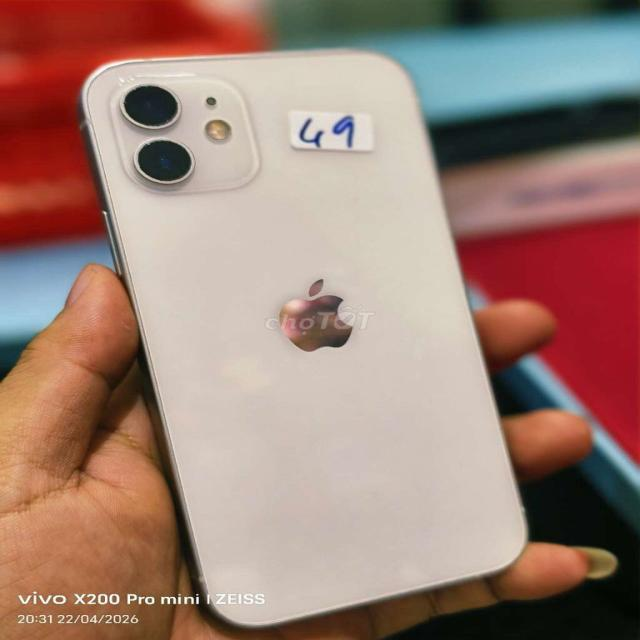gen_12_13: (68, 42, 536, 630)
